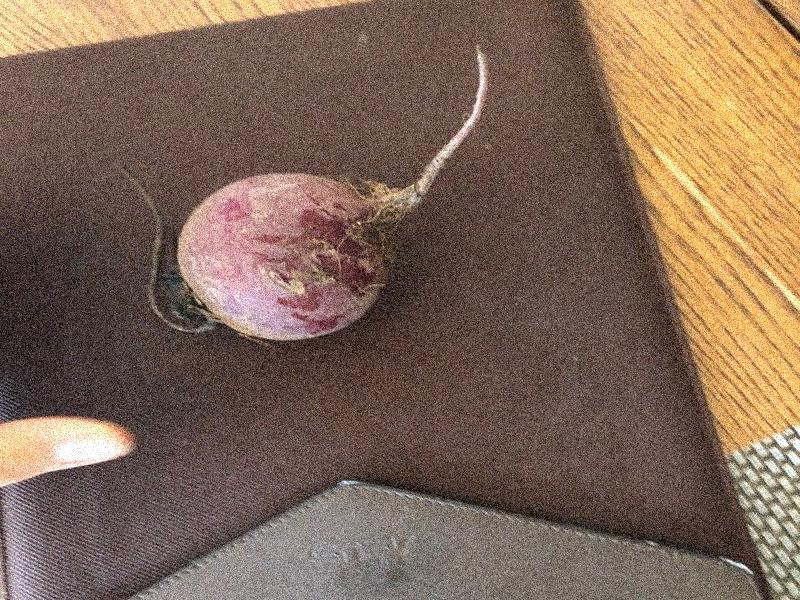Beet: (120, 47, 489, 339)
